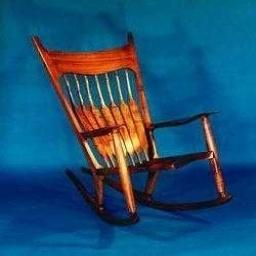Chair: (32, 35, 230, 227)
